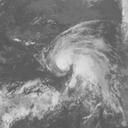cyclone: (42, 22, 109, 80)
